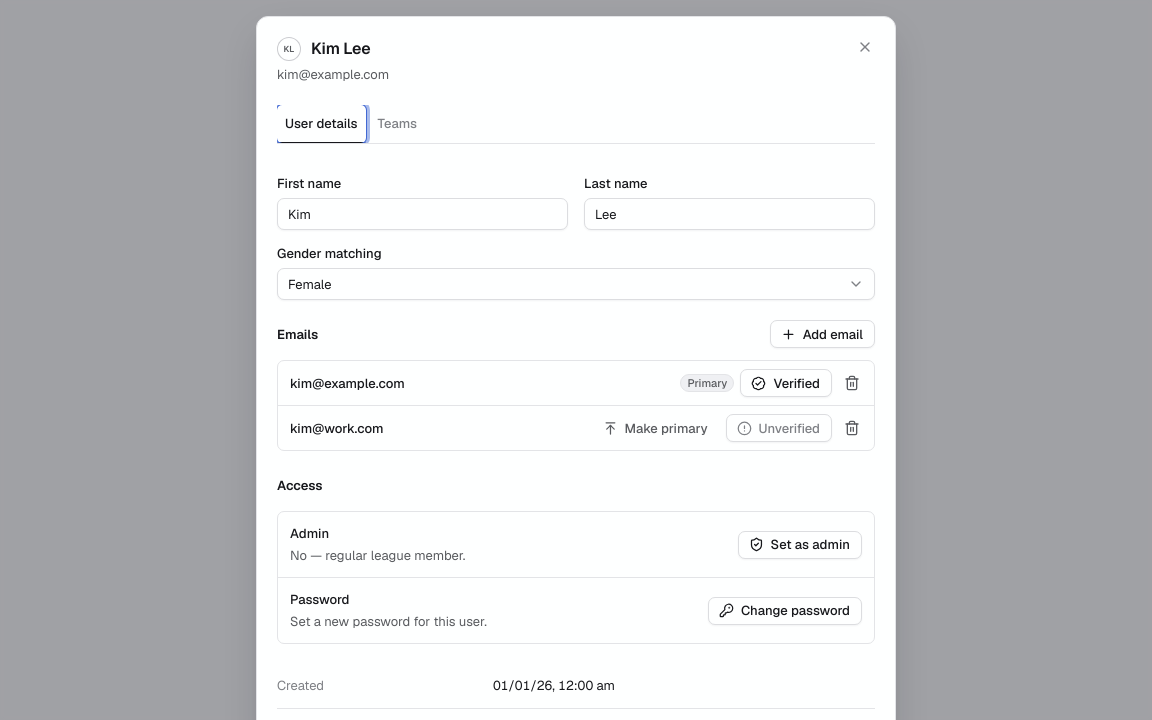
it: UserDialog emails › removes an email after confirming
Click the button named "Remove kim@work.com" at (852, 428), box 838,414 -> 866,442
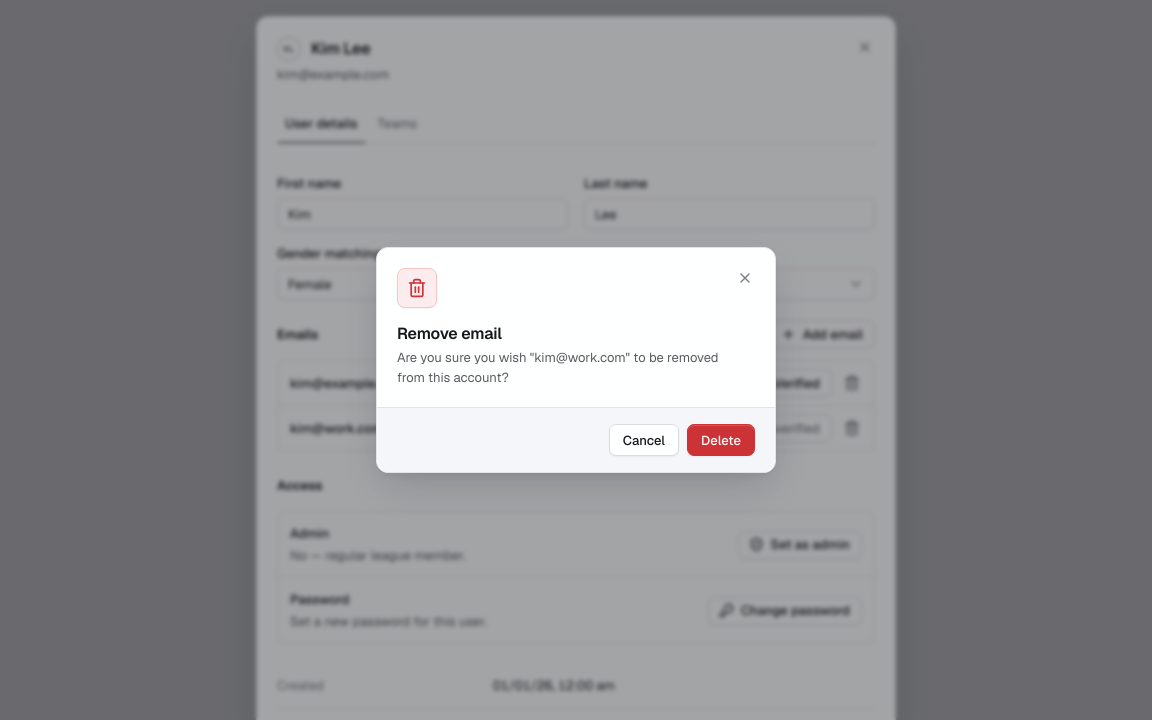
expect the text "\"kim@work.com\" to be removed" is shown: met, box 397,349 -> 719,386
Click the button "Delete" at (721, 440), box 687,424 -> 755,456
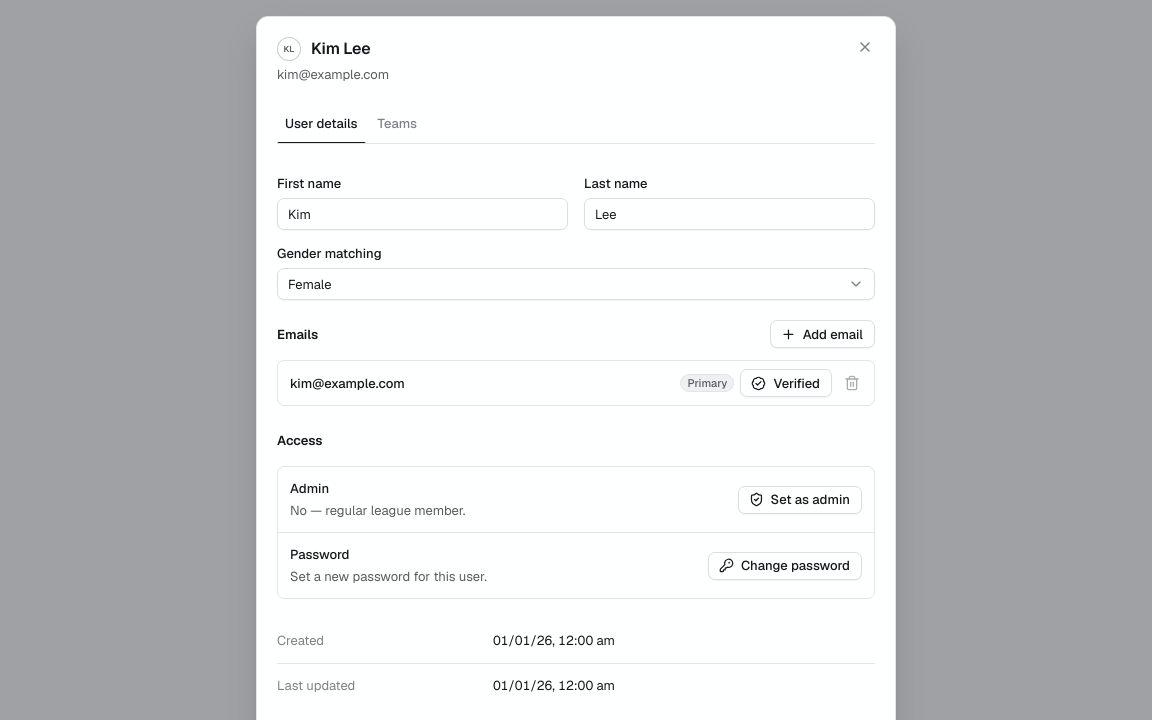
expect the text "kim@work.com" is gone: met
expect the button named "Remove kim@example.com" is disabled: met, box 838,369 -> 866,397
